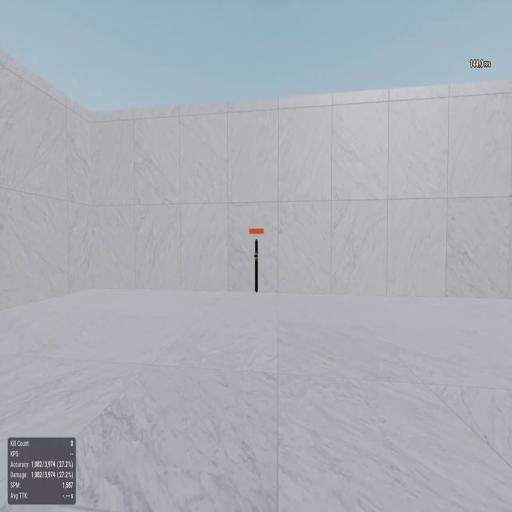Crosshair: (253, 252, 259, 260)
Target: (255, 239, 258, 291)
